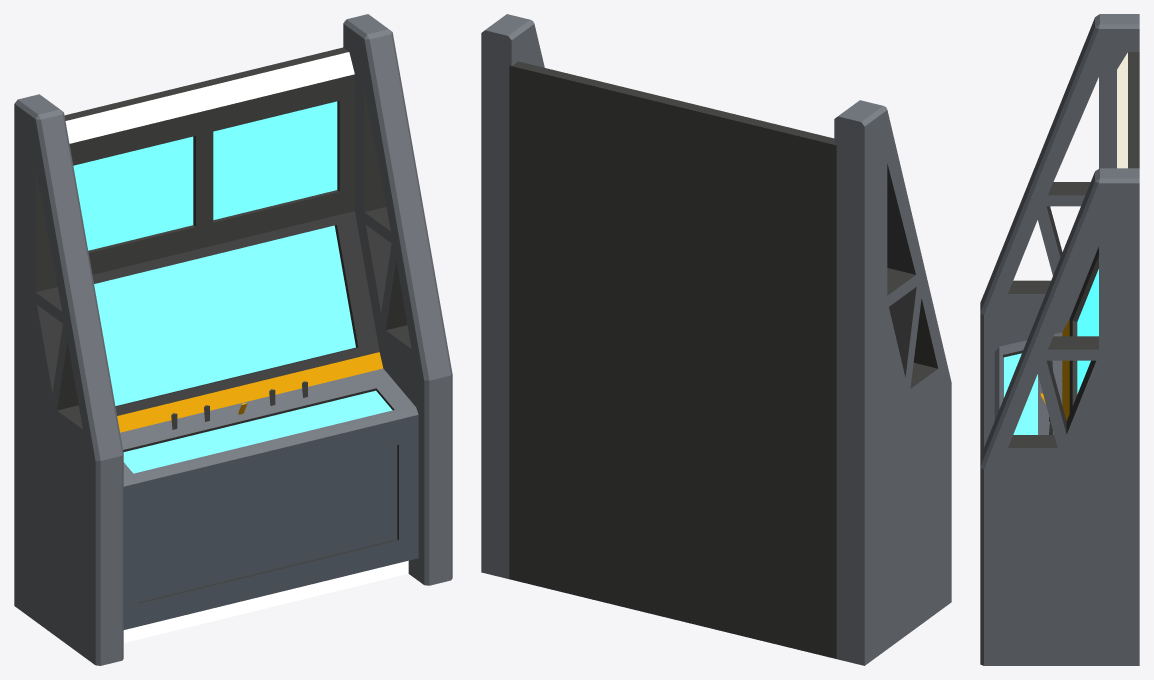
File: wall_bank_core_engineering.glb
The picture shows the model from 3 angles, left to right: view 1: azimuth 30°, elevation 25°; view 2: azimuth 150°, elevation 25°; view 3: azimuth 270°, elevation 25°; orthographic projection. The views are drawn at different scales.
Parts seen in each view (by area): view 1: wall_bank_core_engineering; view 2: wall_bank_core_engineering; view 3: wall_bank_core_engineering.
Part boxes in pixels (box(x1,y1,x2,y2)): wall_bank_core_engineering: box(14, 14, 452, 665); wall_bank_core_engineering: box(481, 14, 951, 665); wall_bank_core_engineering: box(980, 14, 1139, 665).
Bounding box in the file's own units: 1.64 × 2.22 × 0.66.
